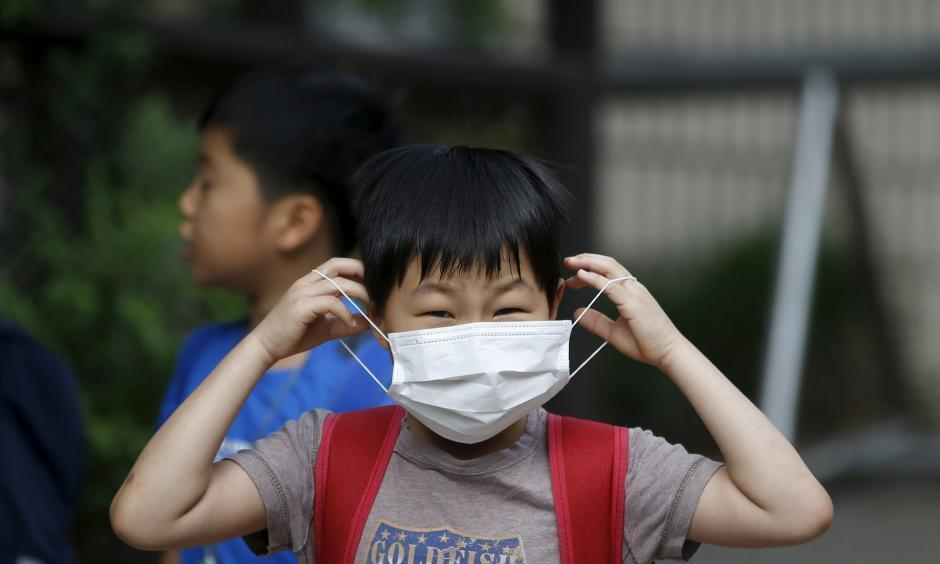NONE: (178, 164, 284, 285)
OK: (391, 260, 558, 427)
